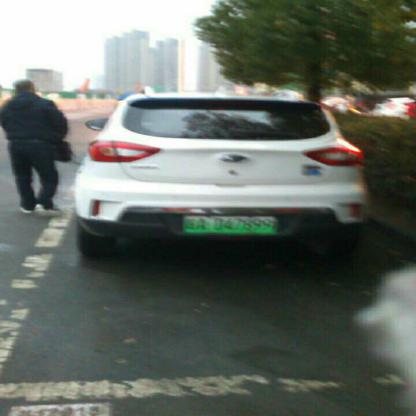lp: (183, 215, 276, 233)
